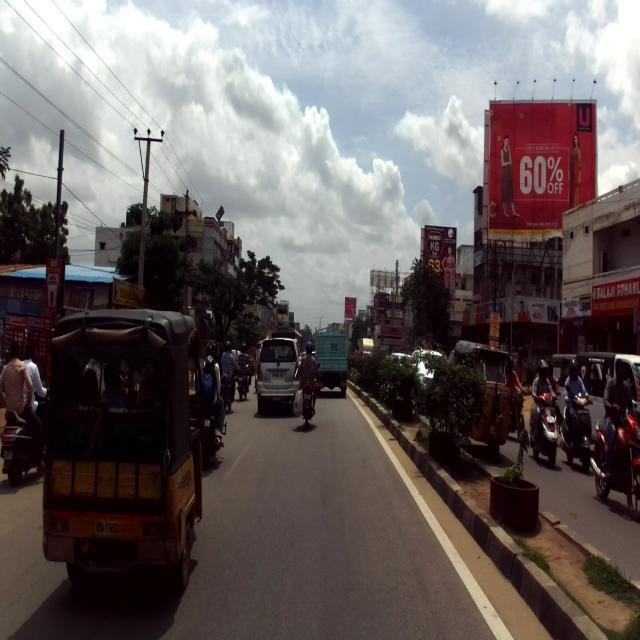autorickshaw: (42, 308, 205, 592), (452, 339, 512, 463)
car: (572, 351, 640, 454)
motorcycle: (592, 402, 639, 523), (200, 376, 228, 469)
scooter: (2, 376, 50, 486), (560, 383, 594, 474), (527, 391, 559, 468)
